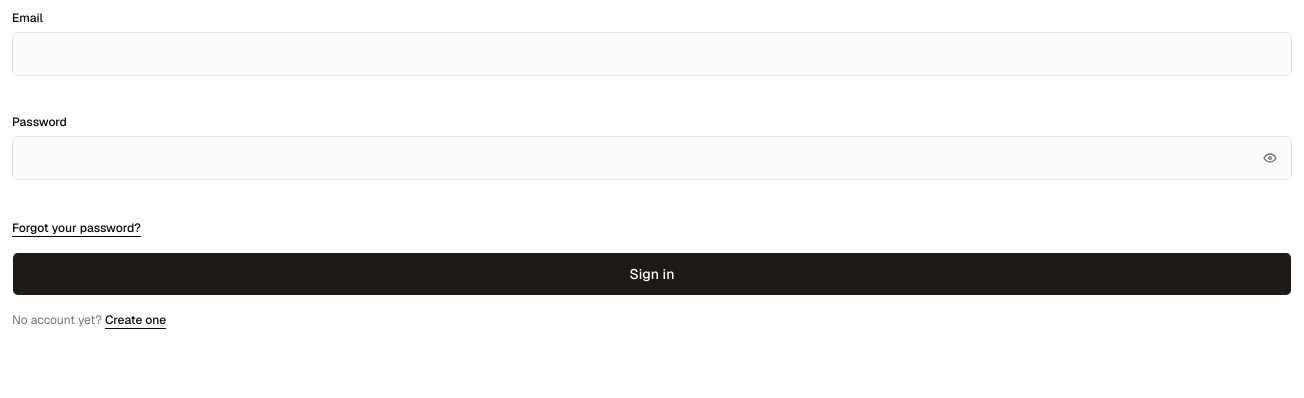
Test: SignInForm › says so when the password does not match
The image size is (1304, 398).
In the field labelled "Email": (652, 54) [12,32,1292,76], type "Eater@Example.test"
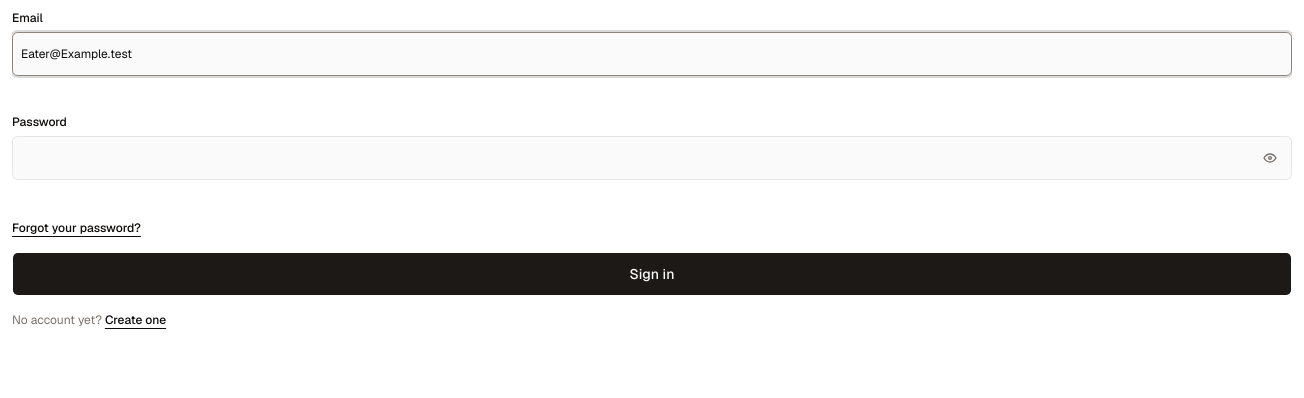
In the password field labelled "Password": (652, 158) [12,136,1292,180], type "lentils-and-rice-forever"
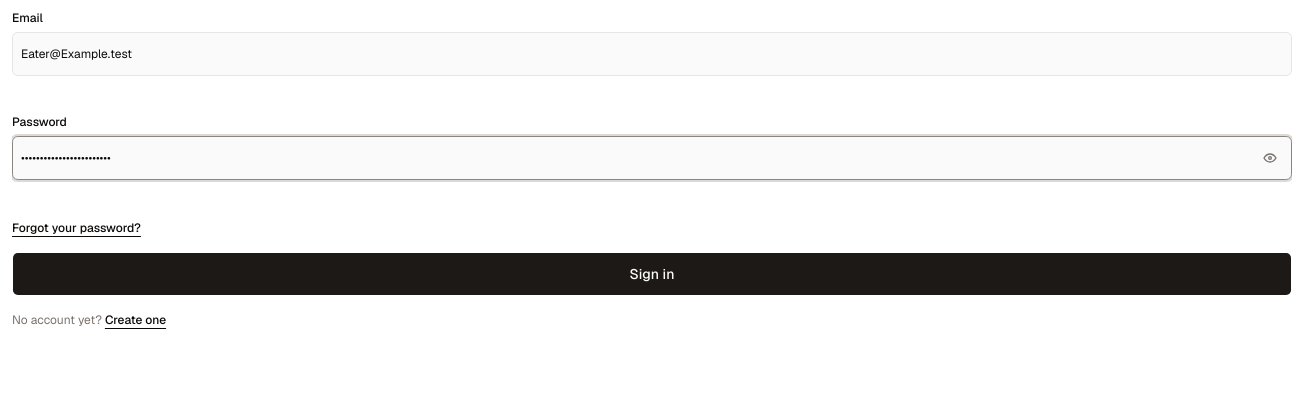
Click the button "Sign in": (652, 274) [12,252,1292,296]
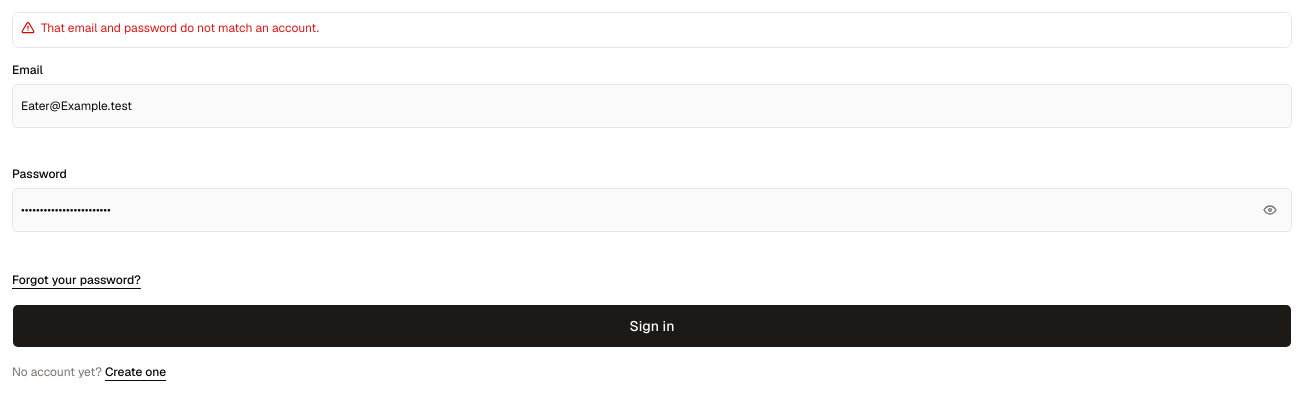
Result: the message reads "That email and password do not match an account." at [41,20,319,36]
